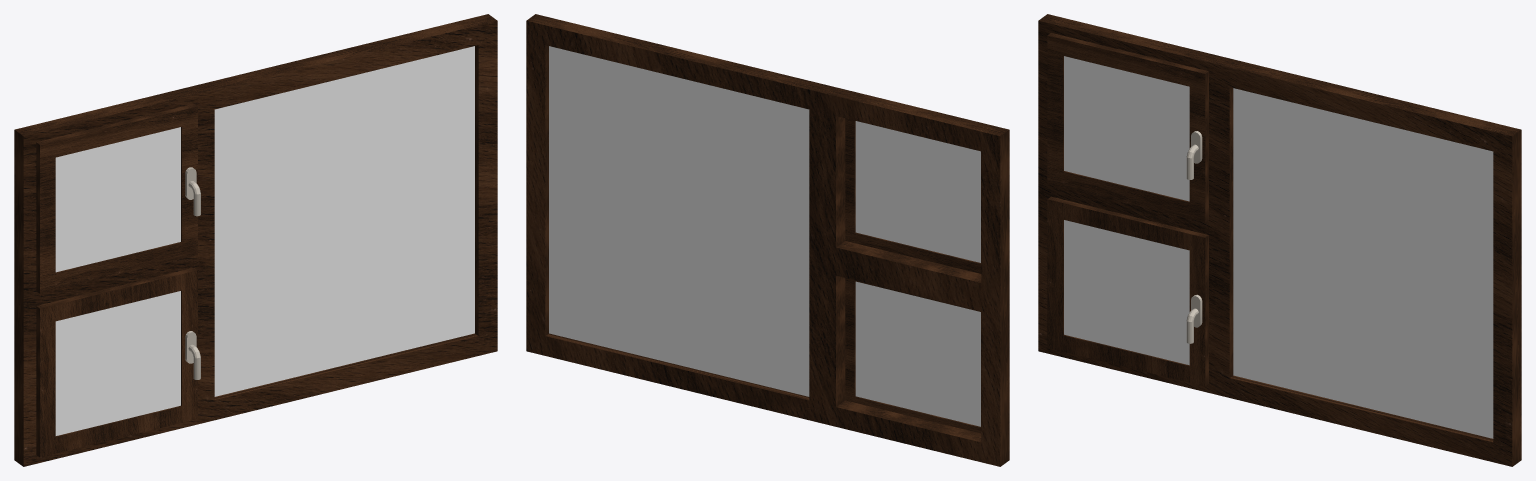
File: window.glb
The picture shows the model from 3 angles, left to right: view 1: azimuth 30°, elevation 25°; view 2: azimuth 150°, elevation 25°; view 3: azimuth 330°, elevation 25°; orthographic projection.
Parts seen in each view (by area): view 1: Layer:2 glass, Layer:1 frame, Layer:3 handle; view 2: Layer:2 glass, Layer:1 frame; view 3: Layer:2 glass, Layer:1 frame, Layer:3 handle.
Part boxes in pixels (bbox=[...]): Layer:2 glass: bbox=[55, 46, 474, 435]; Layer:1 frame: bbox=[14, 14, 497, 466]; Layer:3 handle: bbox=[185, 167, 200, 379]; Layer:2 glass: bbox=[549, 46, 980, 426]; Layer:1 frame: bbox=[526, 14, 1009, 466]; Layer:2 glass: bbox=[1064, 56, 1493, 438]; Layer:1 frame: bbox=[1038, 14, 1521, 466]; Layer:3 handle: bbox=[1186, 131, 1202, 343].
Size of the model in its own units: 1.5 by 1 by 0.12.
Materials: 3 (2 with a texture image).
